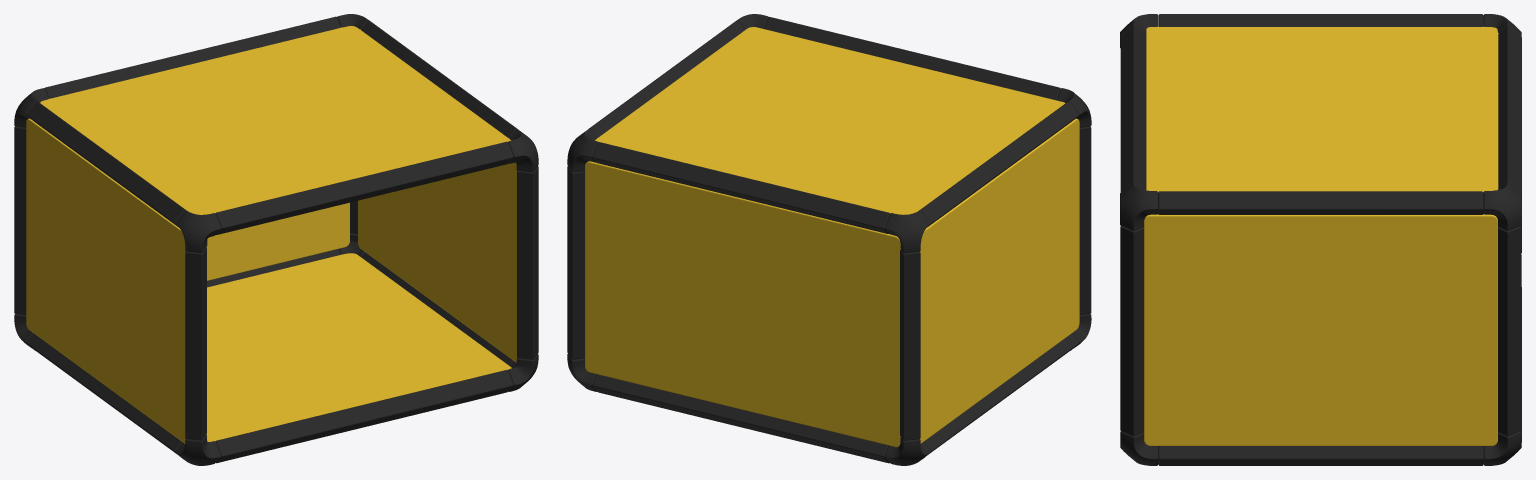
3 views of the same model, side by side, from view 1: azimuth 30°, elevation 25°; view 2: azimuth 150°, elevation 25°; view 3: azimuth 270°, elevation 25° (orthographic). The views are drawn at different scales.
Parts seen in each view (by area): view 1: 374x329x229; view 2: 374x329x229; view 3: 374x329x229.
Boxes of the visible parts, x1,y1,x2,y2 form: 374x329x229: [14, 14, 538, 465]; 374x329x229: [567, 14, 1091, 465]; 374x329x229: [1120, 14, 1521, 465].
Bounding box in the file's own units: 0.4517 × 0.3067 × 0.4063.
